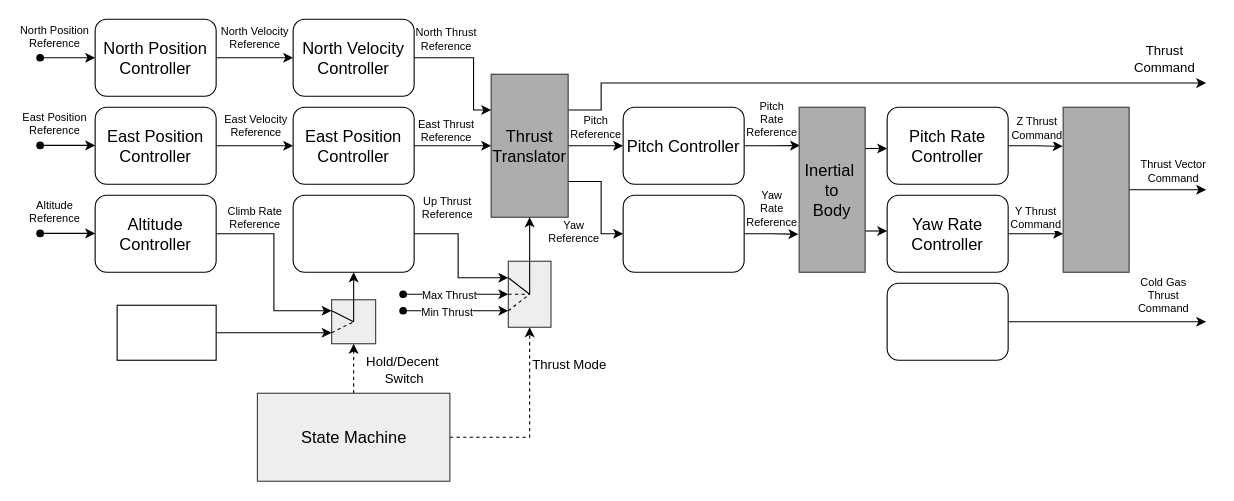
This 1234x501 diagram has some shape labels left out. The centre of each missing label's shape, as x and y in pixels:
Climb Rate Controller: point 353,233
Decent Rate Planner: point 166,332
Roll regulator: point 947,321
Thrust Vector Angles: point 1095,189
Yaw Controller: point 683,233
